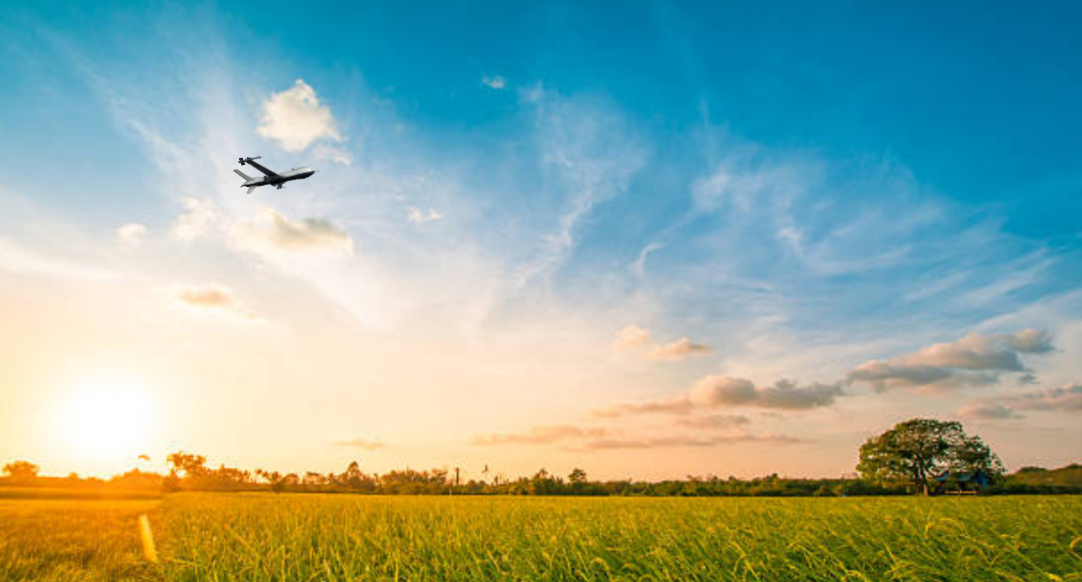military drone: (232, 155, 319, 194)
